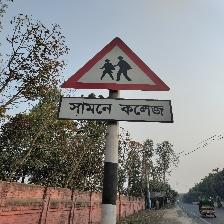College-in-front: (49, 29, 181, 130)
